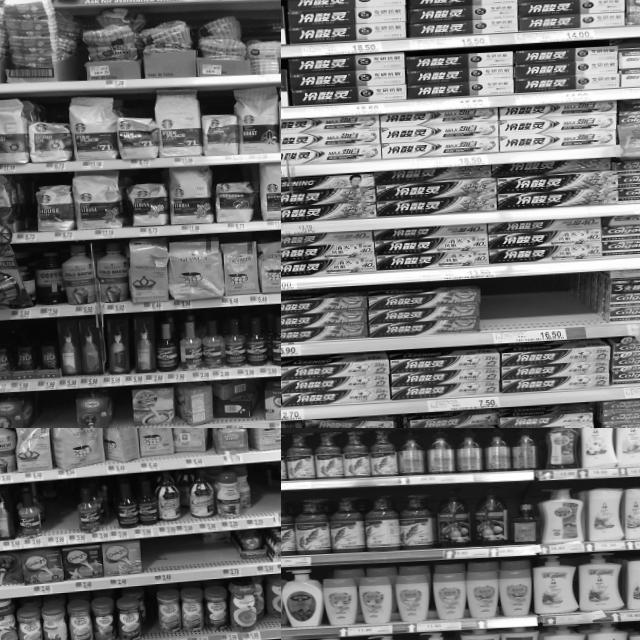empty: (482, 278, 590, 342), (142, 536, 202, 582), (250, 464, 281, 526), (34, 389, 77, 428), (46, 500, 78, 544), (205, 542, 238, 578), (22, 175, 38, 242), (112, 386, 134, 428)
